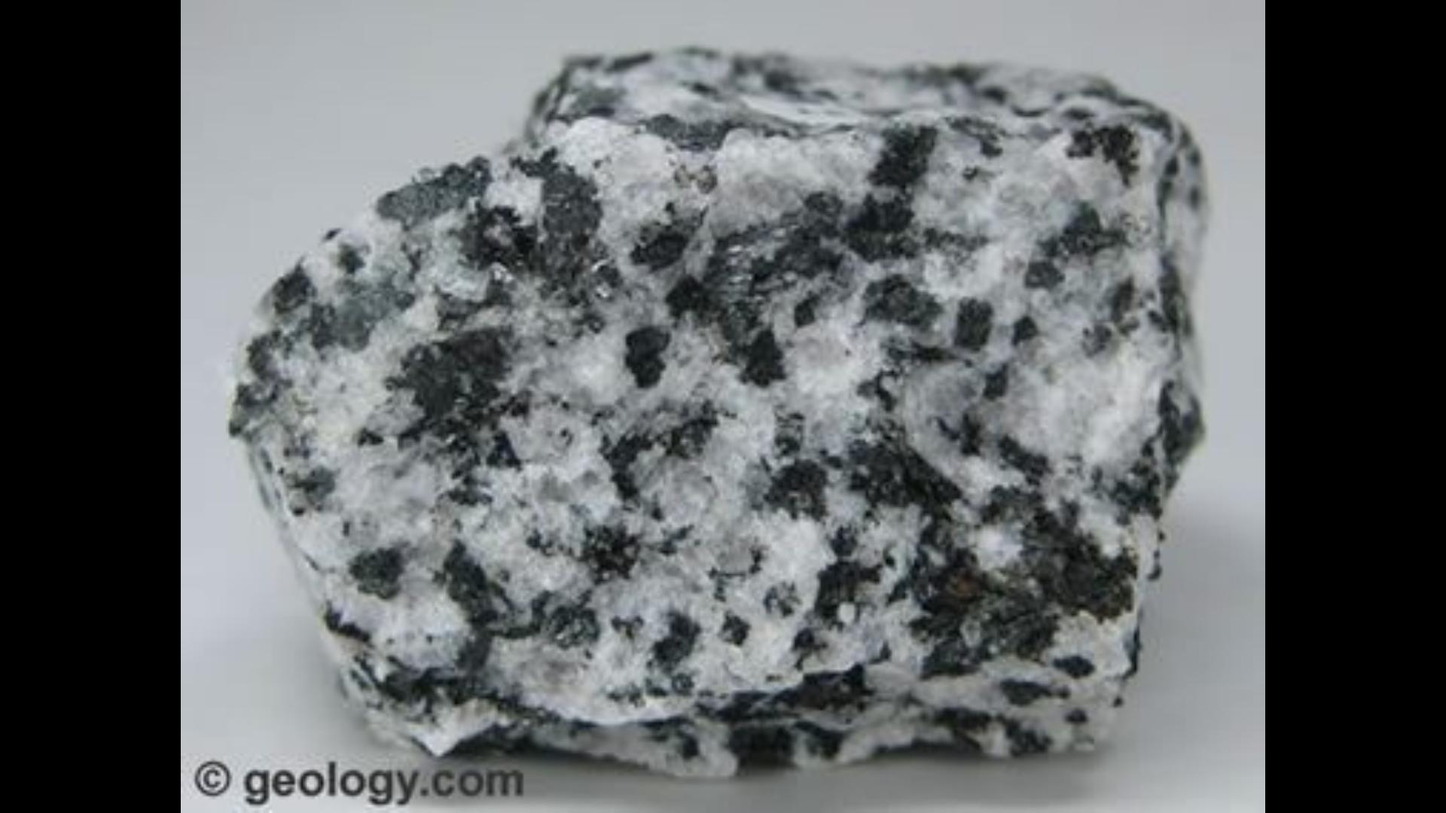rock: (229, 48, 1202, 773)
